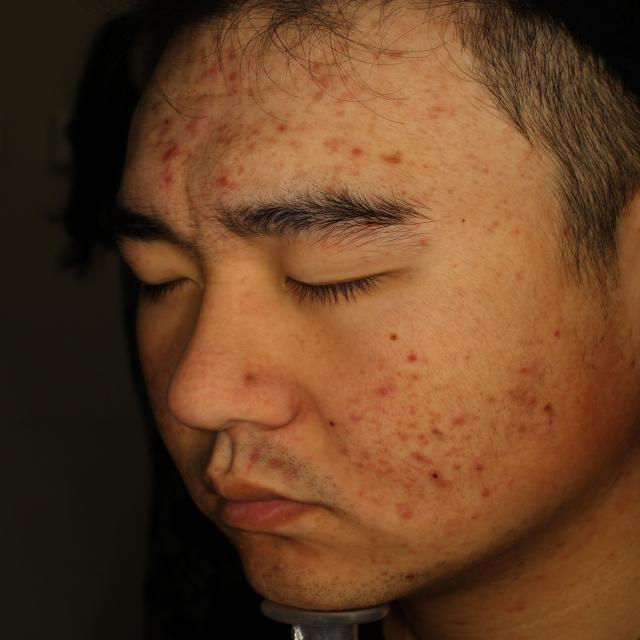papule: (197, 160, 240, 200), (388, 413, 427, 455), (530, 394, 566, 438), (303, 58, 344, 96), (372, 147, 407, 183), (227, 66, 262, 102), (372, 493, 407, 528), (145, 140, 180, 174), (467, 479, 500, 514), (398, 339, 433, 371), (235, 115, 265, 152), (445, 410, 479, 441), (406, 438, 436, 473), (367, 450, 396, 480), (194, 59, 226, 86), (517, 354, 547, 382), (524, 378, 547, 412), (346, 407, 372, 434), (350, 133, 368, 167), (423, 466, 441, 496), (366, 370, 386, 396), (462, 458, 479, 479), (504, 383, 516, 408), (194, 118, 210, 132)
